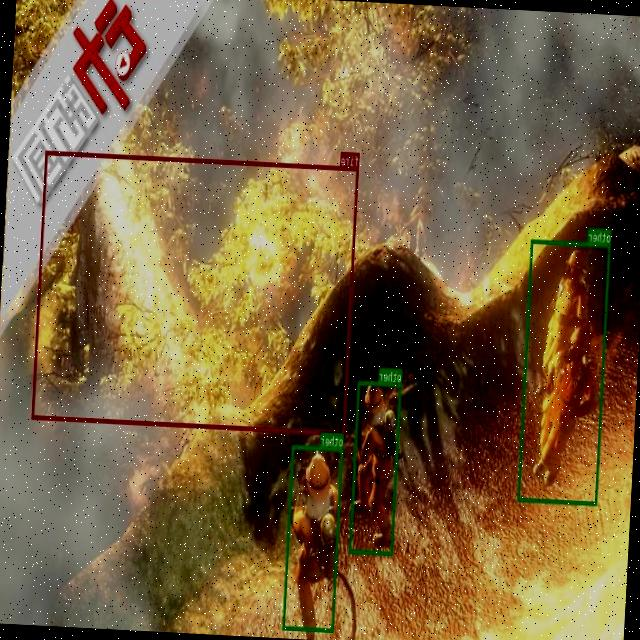fire: (32, 150, 360, 436)
